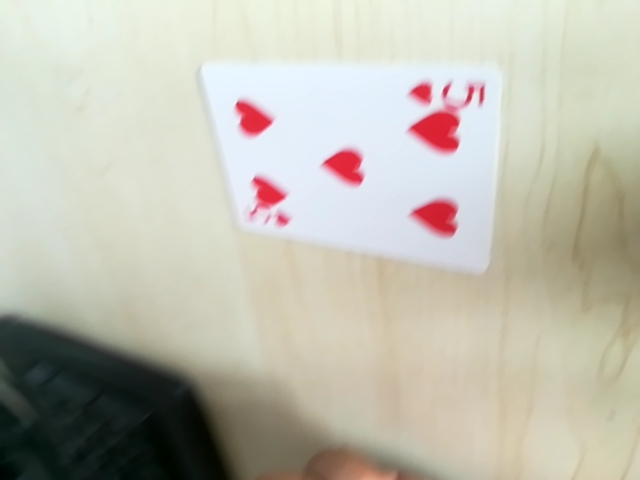hx 5: (406, 67, 488, 111), (244, 208, 298, 236)
